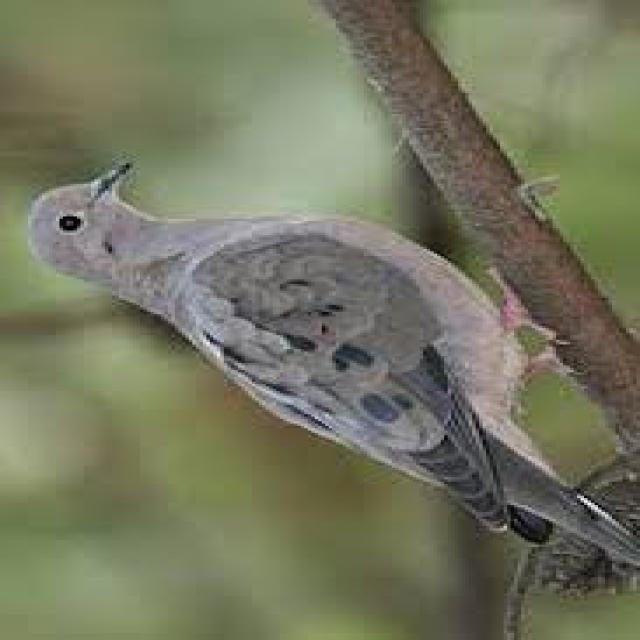pigeon: (26, 119, 628, 596)
